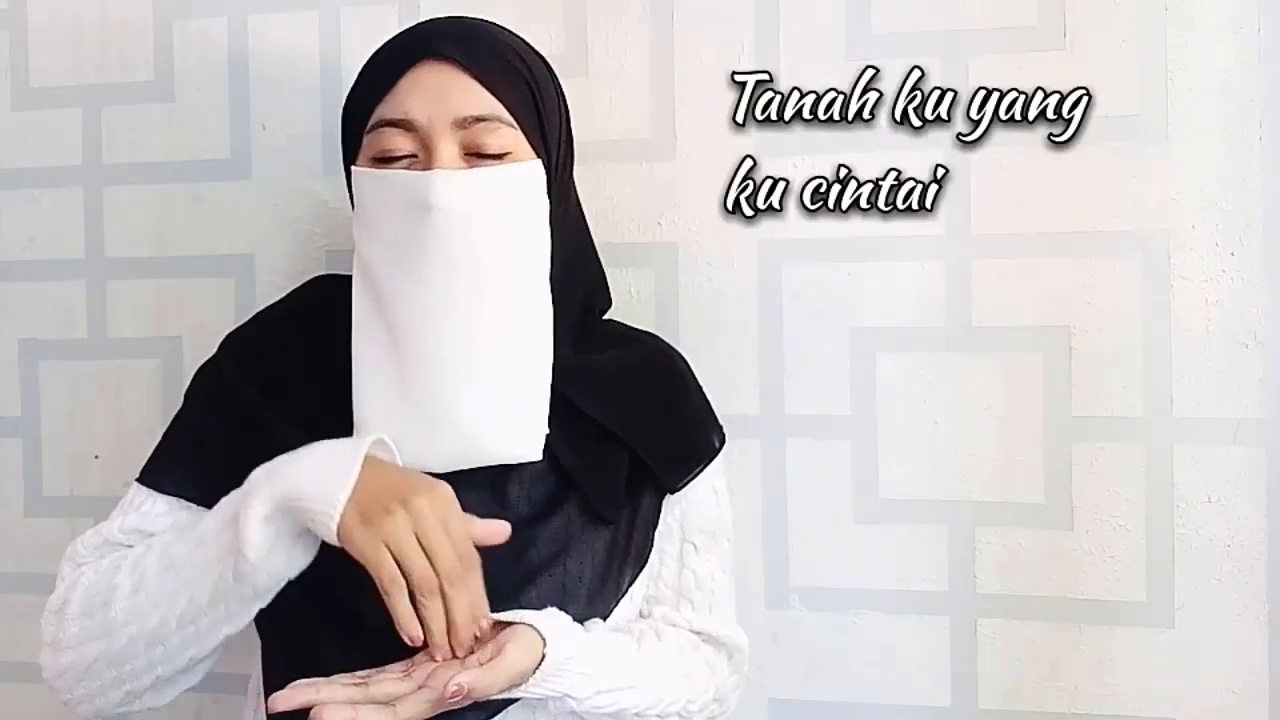TANAH: (309, 437, 554, 720)
